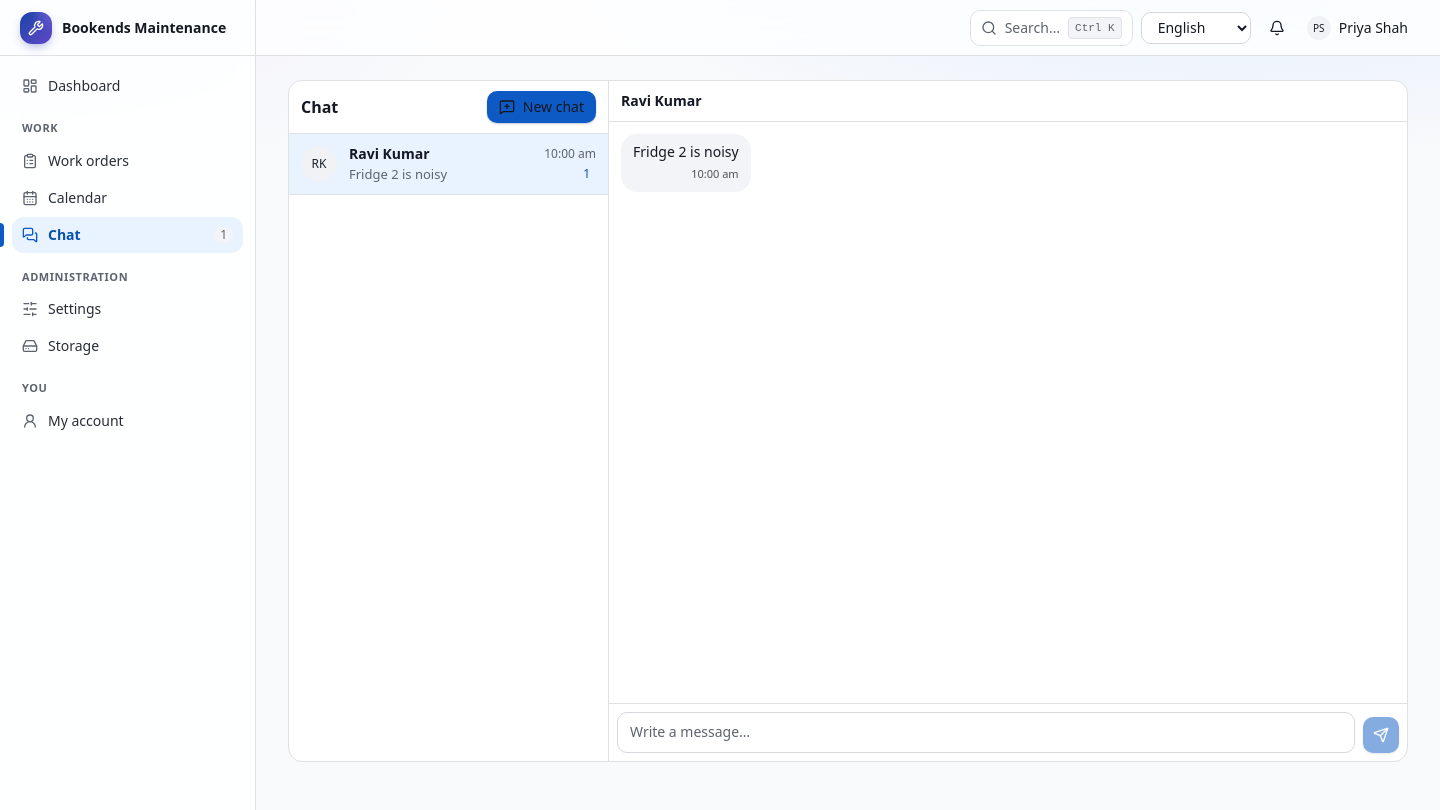
team chat › opens a chat, shows messages and sends one
Check: the 1st text "Fridge 2 is noisy" is shown, box [633,142,739,162]
Type "On my way" into the text box labelled "Write a message…". click: point(986, 733)
box: [617,712,1355,753]
Then press Enter
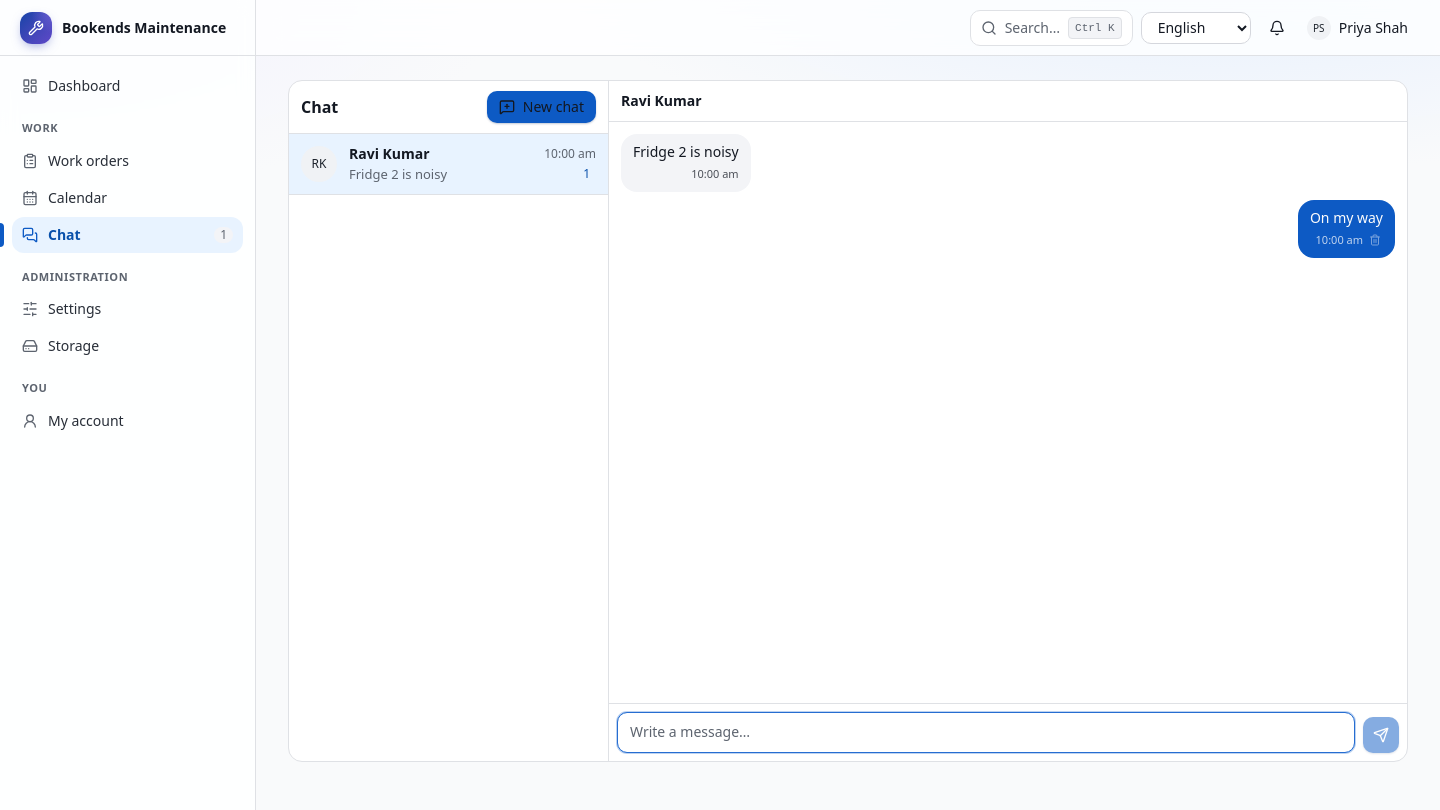
Check: the text "1" below "Calendar" is shown, box [220,226,227,242]
Check: the text "On my way" is shown, box [1310,208,1383,228]
